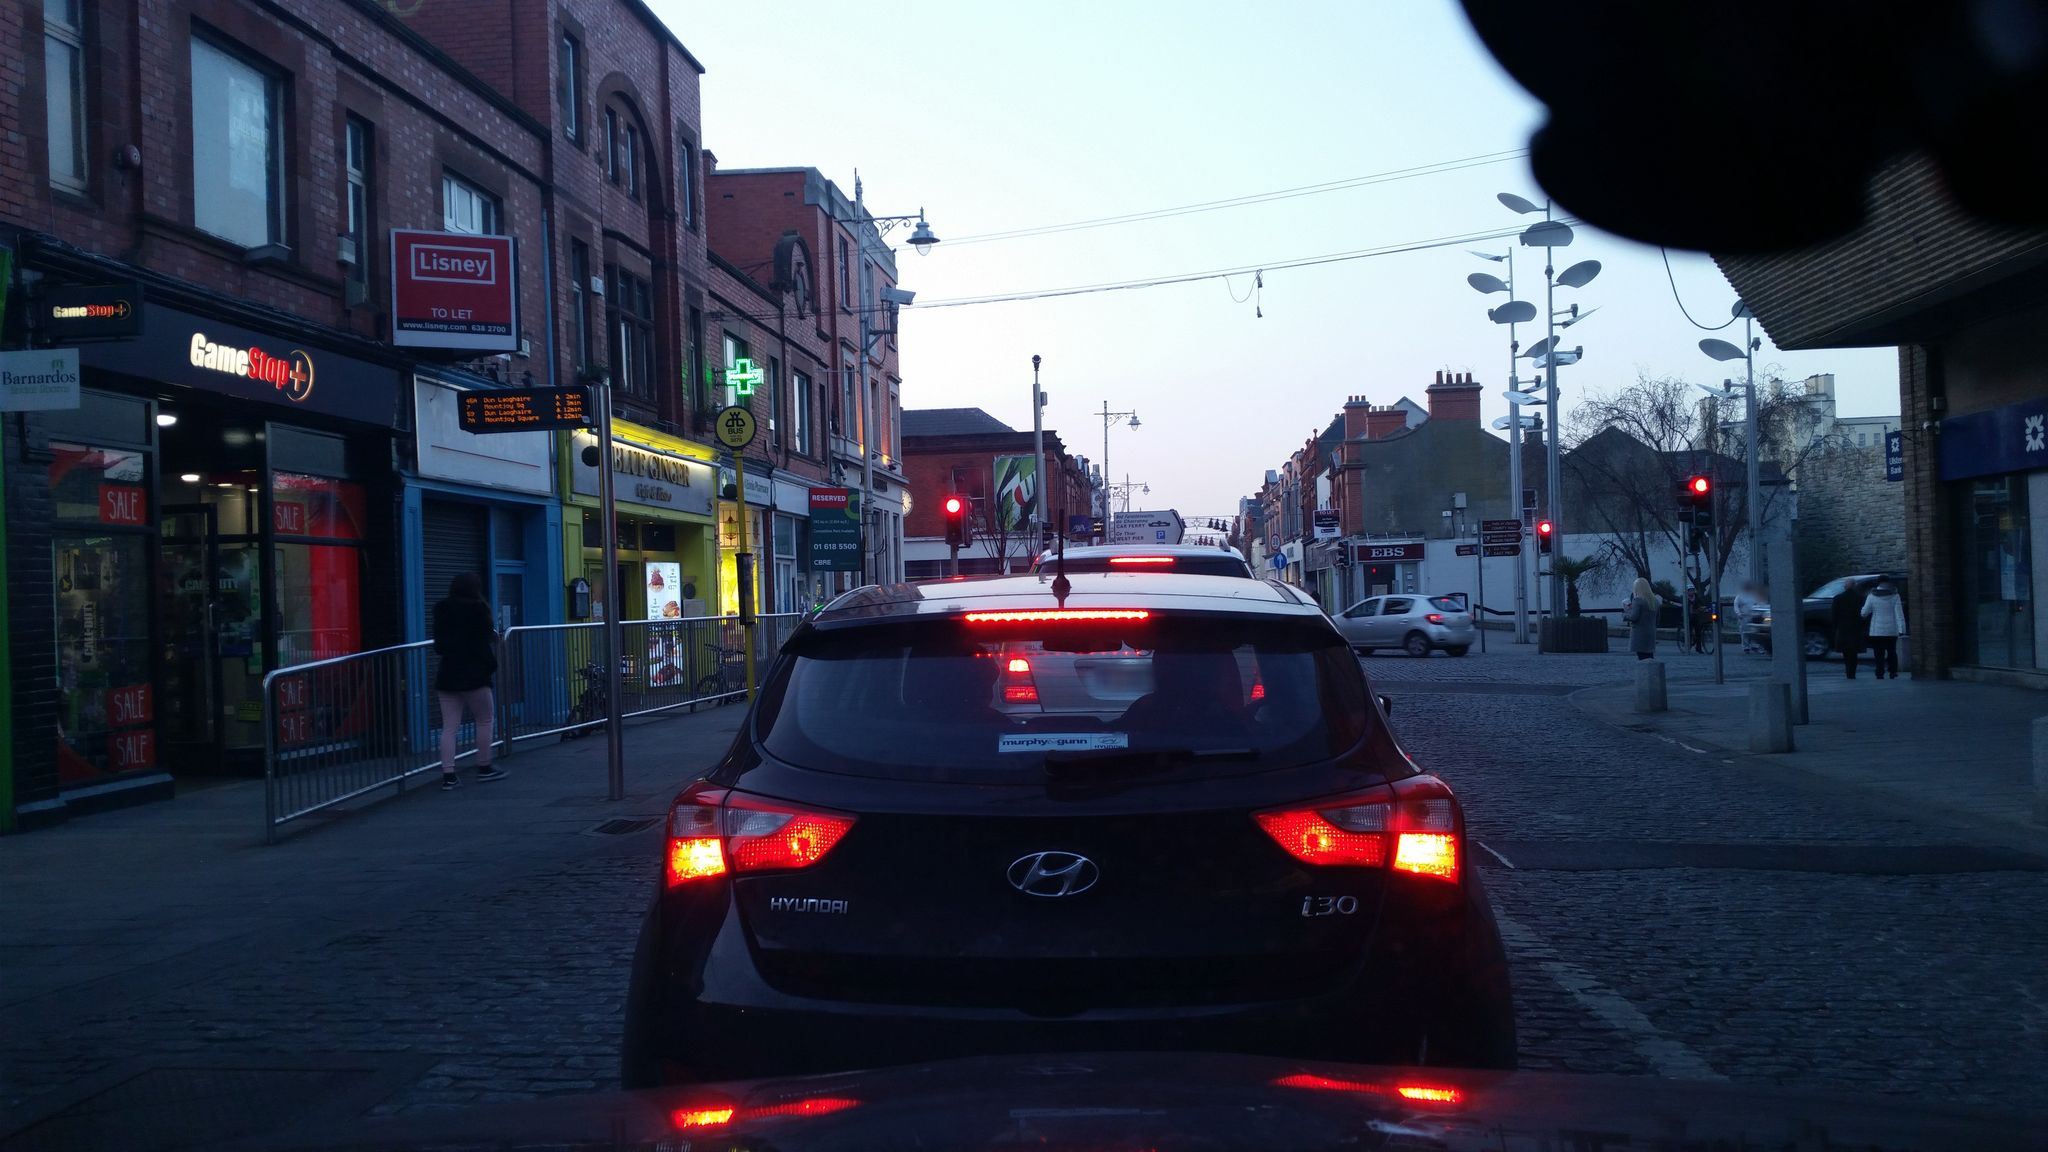property sign: (380, 211, 542, 364), (809, 467, 875, 587)
